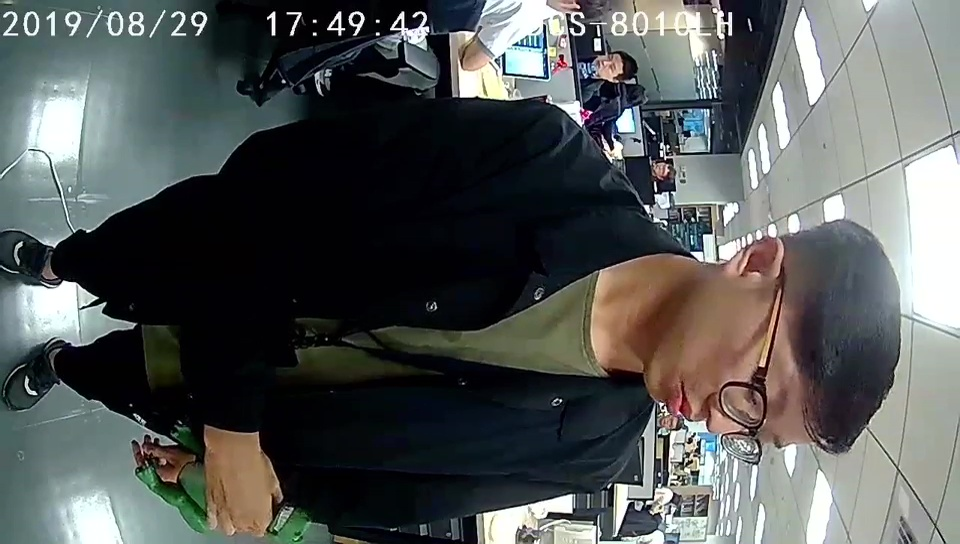rex: (132, 418, 310, 544)
